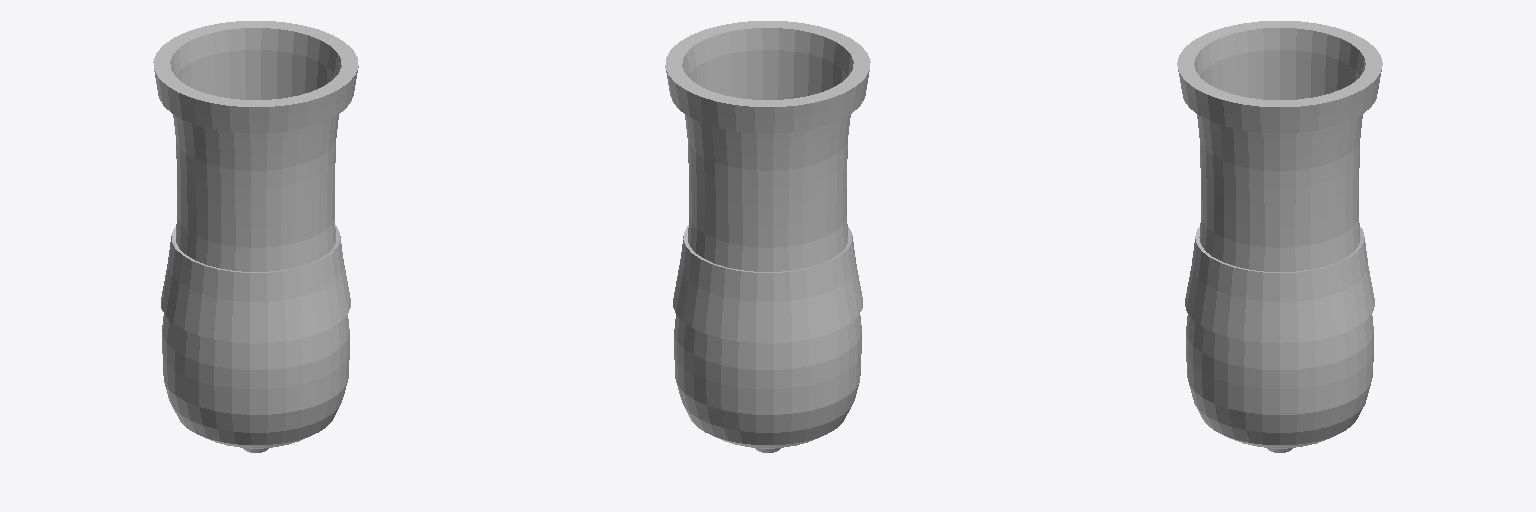
The model's file is cannon_13.obj.
The picture shows the model from 3 angles: view 1: azimuth 30°, elevation 25°; view 2: azimuth 150°, elevation 25°; view 3: azimuth 270°, elevation 25°; orthographic projection.
Visible parts, largest first — view 1: 炮管.003_柱体.009; view 2: 炮管.003_柱体.009; view 3: 炮管.003_柱体.009.
Boxes of the visible parts, <box> form: 炮管.003_柱体.009: <box>153,21,358,452</box>; 炮管.003_柱体.009: <box>665,21,870,452</box>; 炮管.003_柱体.009: <box>1177,21,1382,452</box>.
Bounding box in the file's own units: 0.9245 × 1.9 × 0.9245.